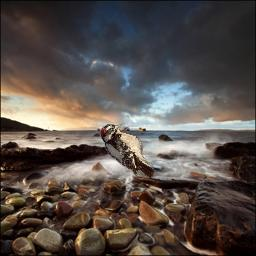Woodpecker: (100, 123, 154, 178)
